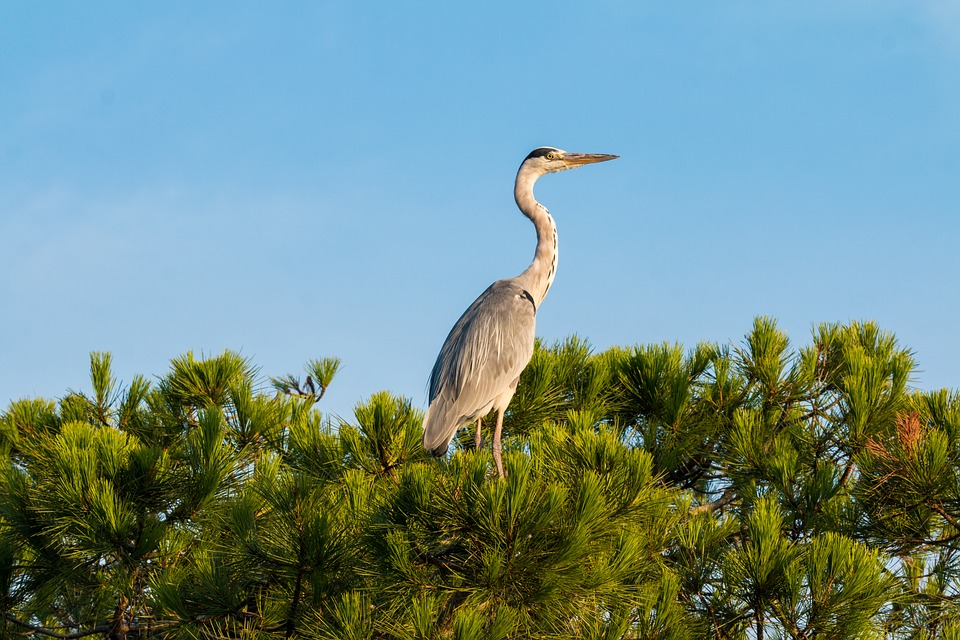heron: (422, 143, 622, 511)
